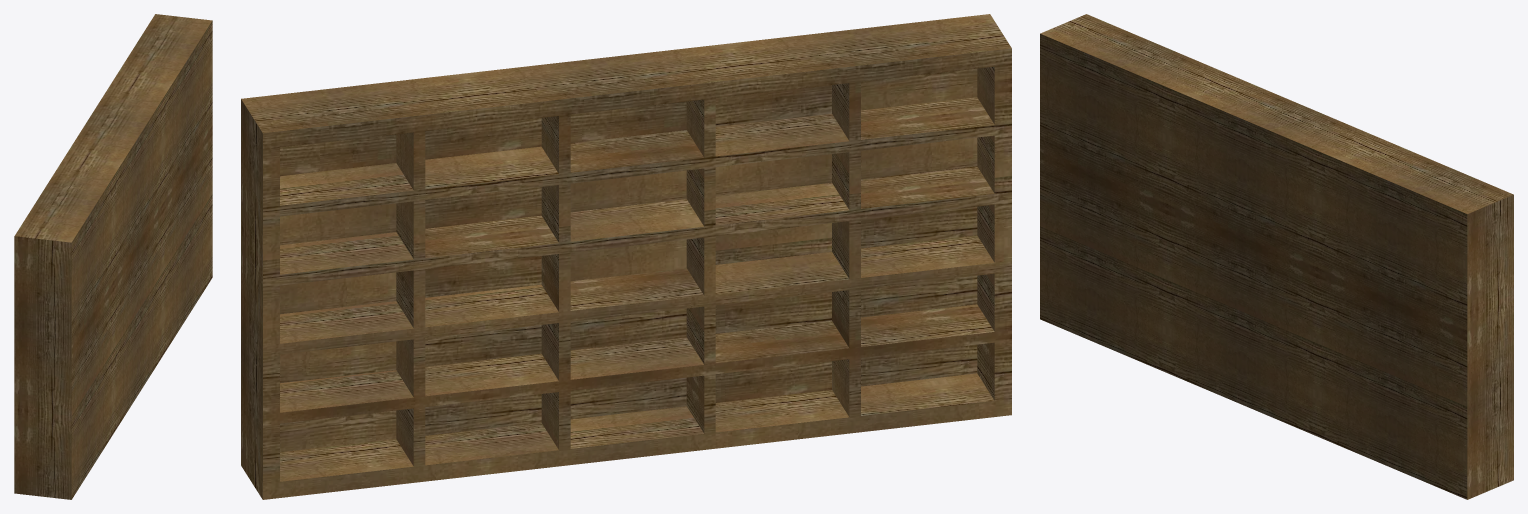
File: Cabinet-transformed.glb
The picture shows the model from 3 angles, left to right: view 1: azimuth 30°, elevation 25°; view 2: azimuth 150°, elevation 25°; view 3: azimuth 270°, elevation 25°; orthographic projection. The views are drawn at different scales.
Parts seen in each view (by area): view 1: CabinetNew; view 2: CabinetNew; view 3: CabinetNew.
Part boxes in pixels (x1,y1,x2,y2): CabinetNew: (14,14,212,499); CabinetNew: (241,14,1011,499); CabinetNew: (1040,14,1513,499).
Size of the model in its own units: 1.8 by 1.2 by 1.8.
1 material, 1 textured.
